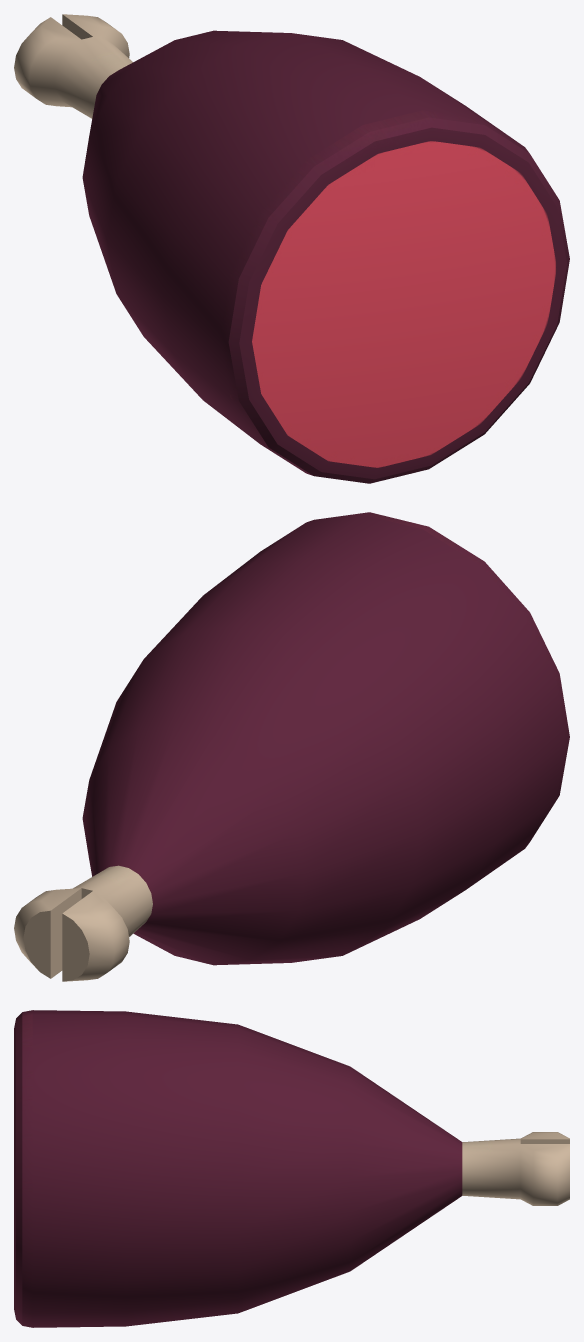
Rendered from prop_ham.FBX.
The picture shows the model from 3 angles, top to bottom: view 1: azimuth 30°, elevation 25°; view 2: azimuth 150°, elevation 25°; view 3: azimuth 270°, elevation 25°; orthographic projection. The views are drawn at different scales.
Parts seen in each view (by area): view 1: prop-ham; view 2: prop-ham; view 3: prop-ham.
Boxes of the visible parts, box(x1,y1,x2,y2) form: prop-ham: box(14, 14, 569, 483); prop-ham: box(14, 512, 569, 981); prop-ham: box(14, 1010, 569, 1327).
Size of the model in its own units: 14.96 by 26.09 by 14.74.
1 material, 1 textured.
